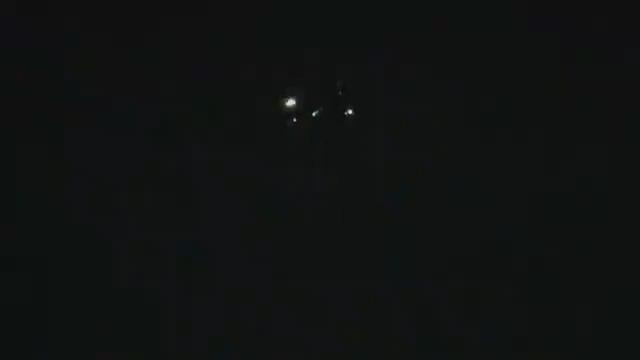Plane: (232, 79, 392, 132)
